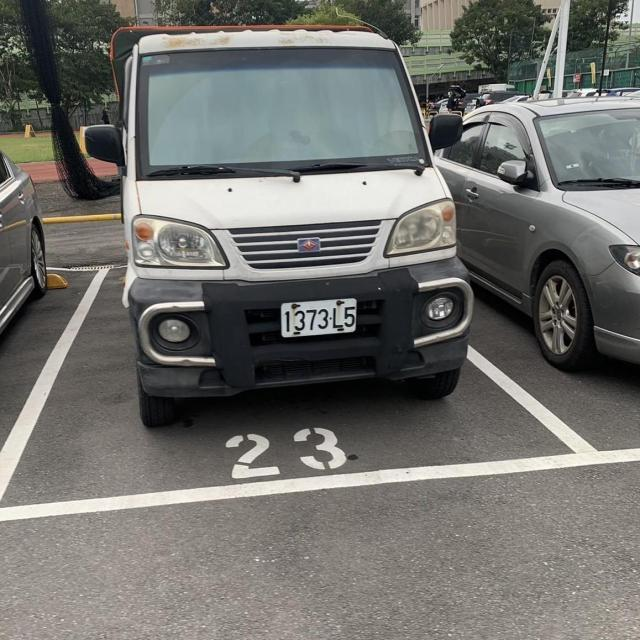W: (272, 294, 366, 345)
